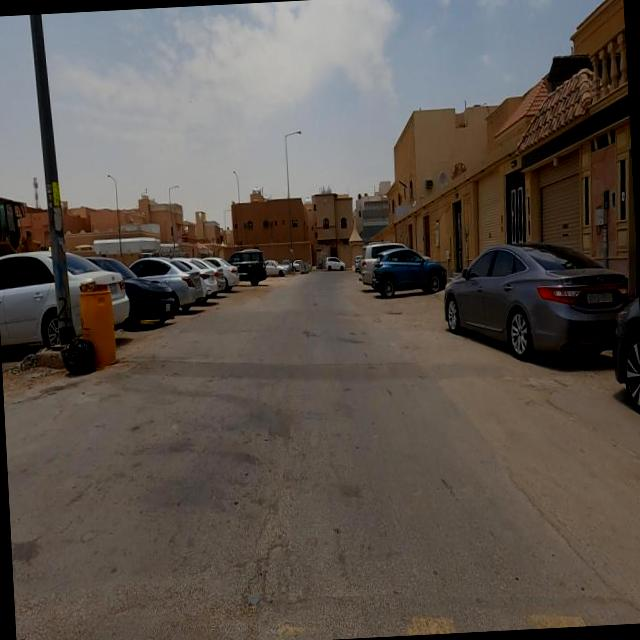debris: (34, 300, 124, 408)
